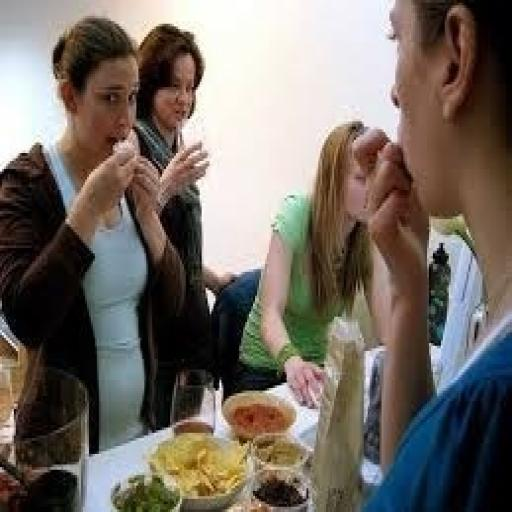eating: (0, 13, 190, 454), (354, 0, 510, 509)
